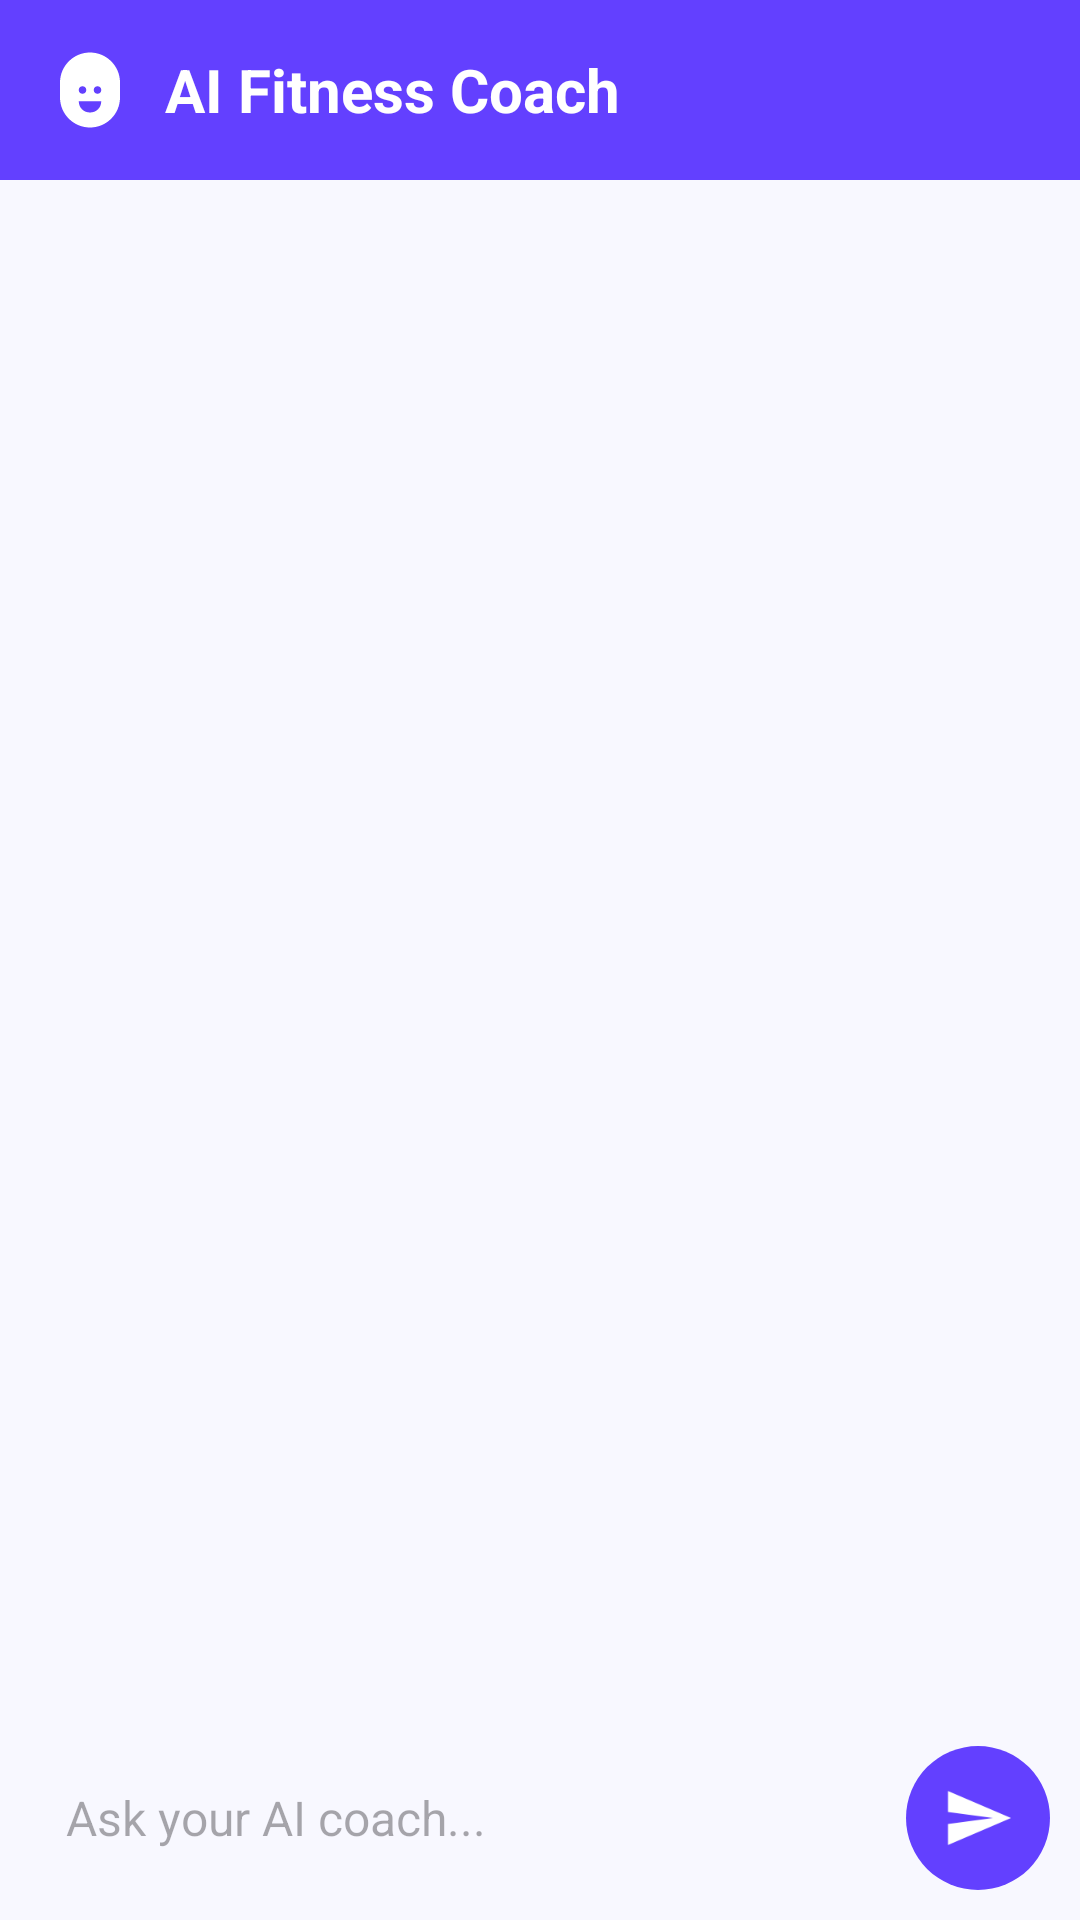

Icons on this 1080 x 1920 Android screen, each with its box as Rect(x1, y1, x2, y2):
send: Rect(906, 1746, 1050, 1890)
